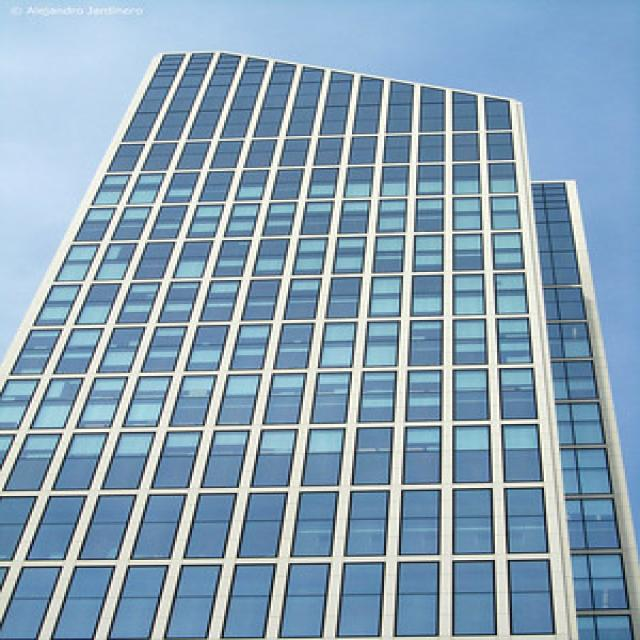building: (1, 45, 637, 640)
